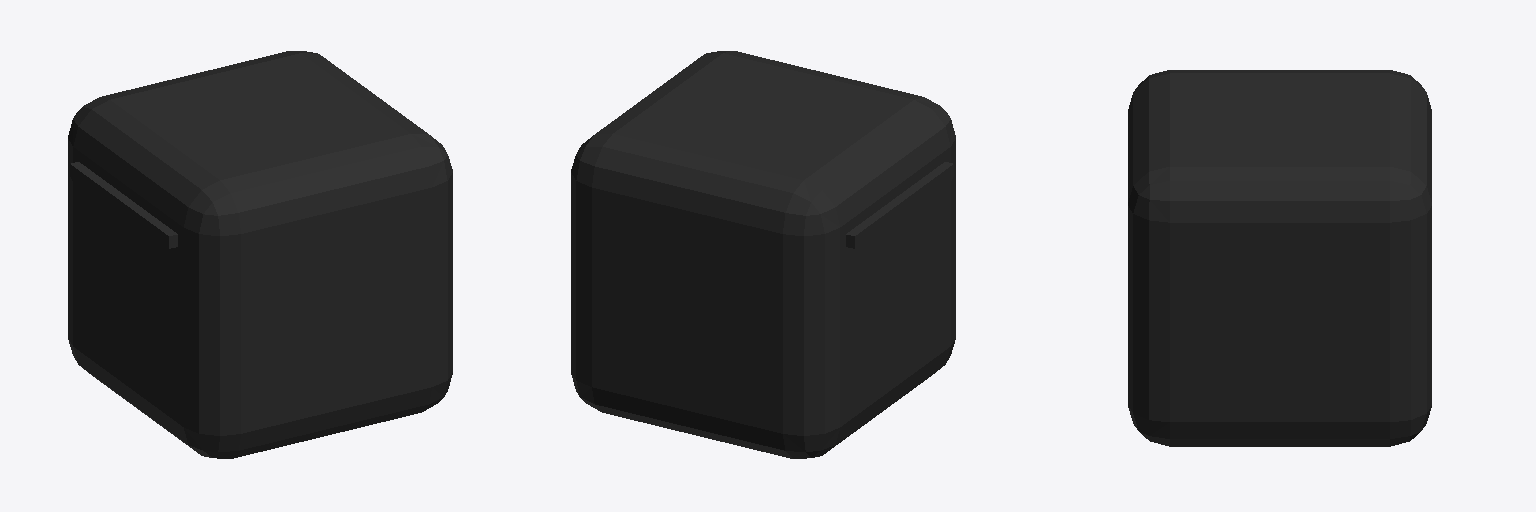
The model's file is note.obj.
3 views of the same model, side by side, from view 1: azimuth 30°, elevation 25°; view 2: azimuth 150°, elevation 25°; view 3: azimuth 270°, elevation 25° (orthographic).
Visible parts, largest first — view 1: SM_block_SM_block; view 2: SM_block_SM_block; view 3: SM_block_SM_block.
Boxes of the visible parts, box(x1,y1,x2,y2) form: SM_block_SM_block: box(68, 51, 452, 458); SM_block_SM_block: box(571, 51, 955, 458); SM_block_SM_block: box(1128, 70, 1431, 446).
Size of the model in its own units: 207 by 200 by 200.